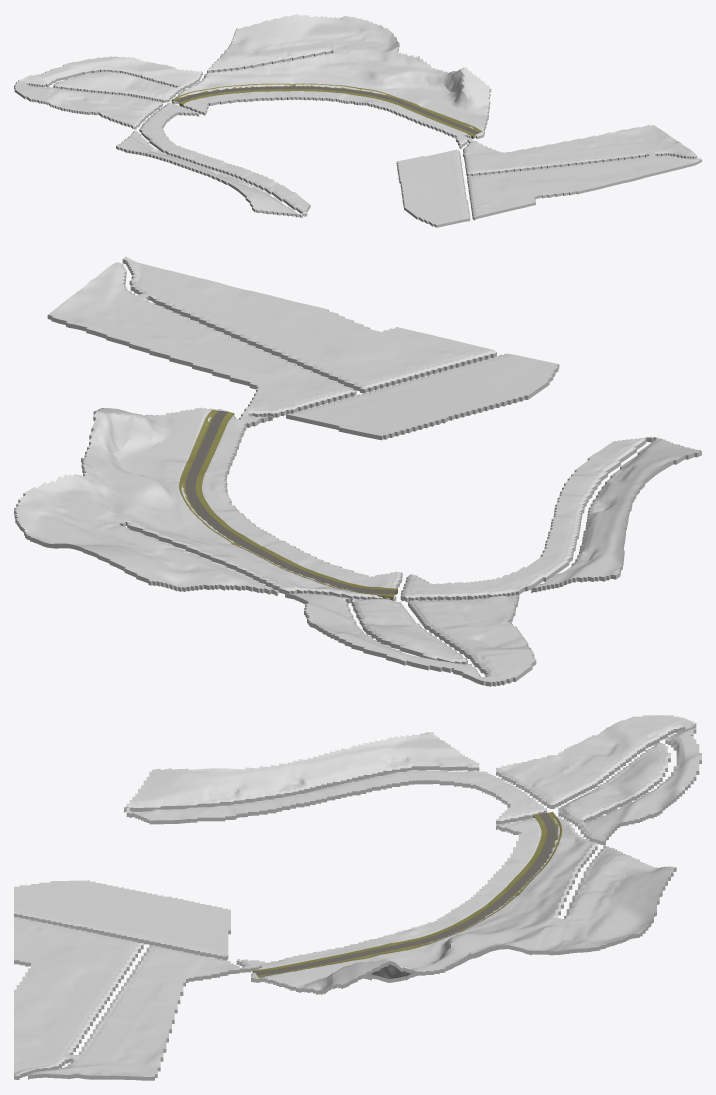
Rendered from conz_114.glb.
The picture shows the model from 3 angles, top to bottom: view 1: azimuth 30°, elevation 25°; view 2: azimuth 150°, elevation 25°; view 3: azimuth 270°, elevation 25°; orthographic projection. The views are drawn at different scales.
Visible parts, largest first — view 1: terrain114, road114, verge114L, verge114R; view 2: terrain114, road114, verge114R, verge114L; view 3: terrain114, road114, verge114R, verge114L.
Boxes of the visible parts, x1=… form: terrain114: x1=14, y1=14, x2=701, y2=227; road114: x1=175, y1=86, x2=479, y2=134; verge114L: x1=171, y1=83, x2=482, y2=132; verge114R: x1=179, y1=89, x2=475, y2=138; terrain114: x1=14, y1=256, x2=701, y2=686; road114: x1=185, y1=410, x2=396, y2=594; verge114R: x1=195, y1=411, x2=397, y2=594; verge114L: x1=179, y1=410, x2=394, y2=600; terrain114: x1=14, y1=715, x2=701, y2=1080; road114: x1=255, y1=812, x2=556, y2=975; verge114R: x1=252, y1=814, x2=546, y2=972; verge114L: x1=257, y1=812, x2=561, y2=977.
Size of the model in its own units: 558 by 41.11 by 488.
